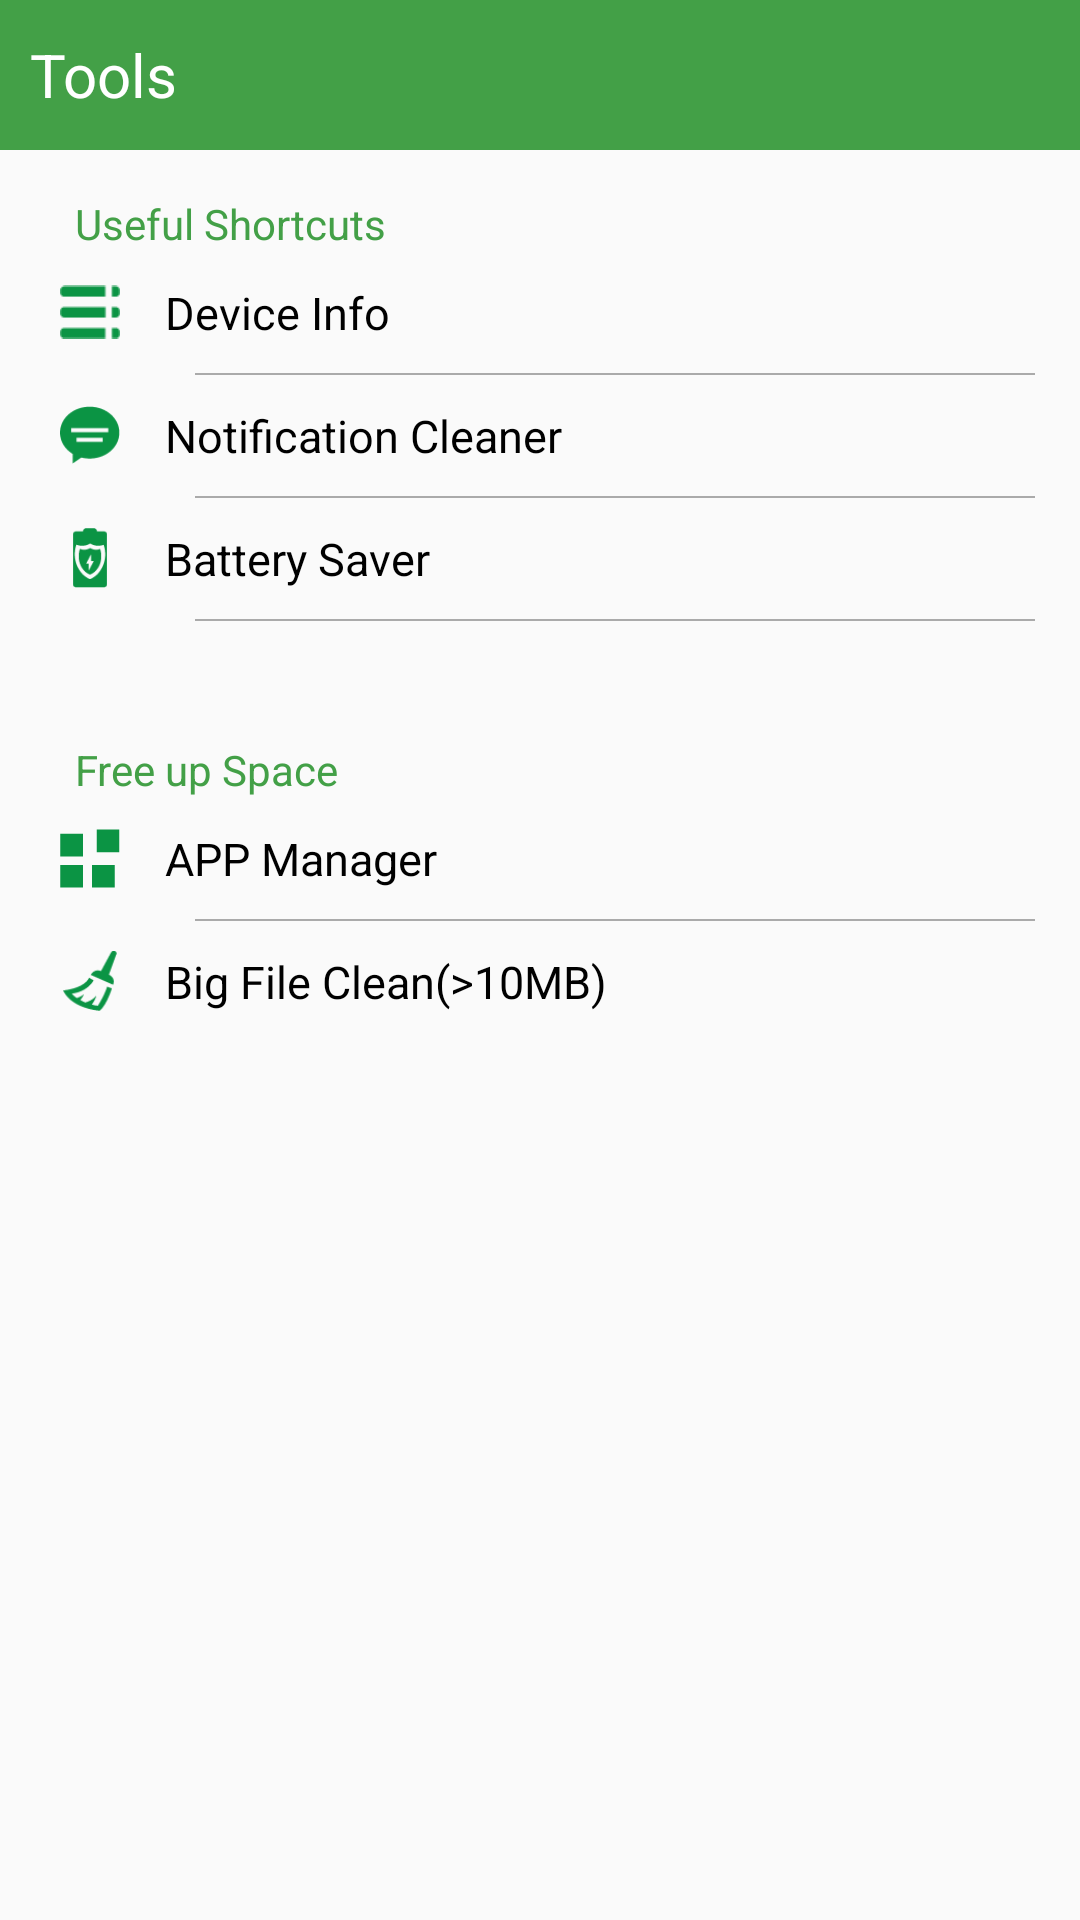

Icon click points for this 1080 × 1920 phone screenshot, format [x,y]:
menu: [90,312]
message alert: [90,435]
